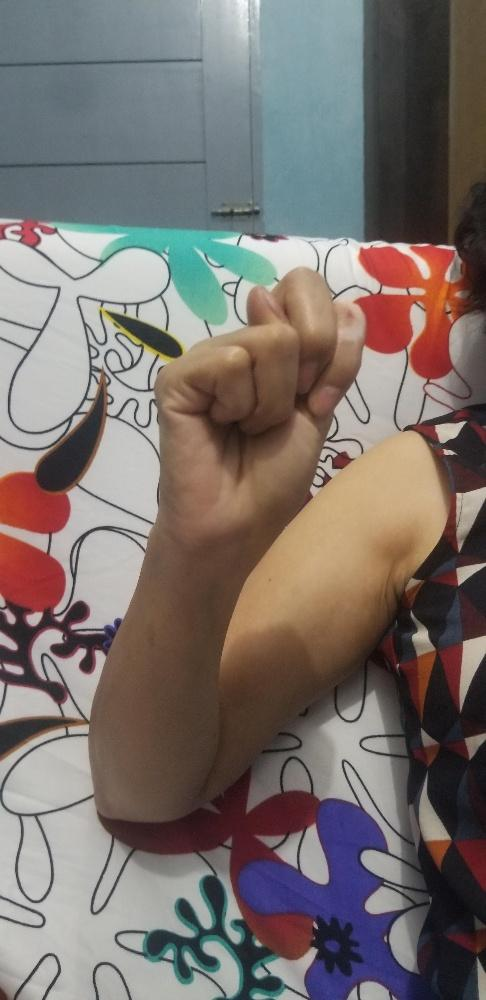n: (151, 264, 368, 553)
